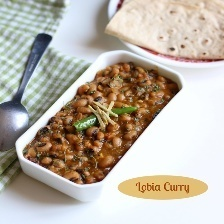sabzi: (20, 61, 181, 185)
